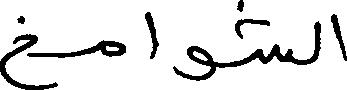X: (0, 11, 36, 89), (173, 41, 214, 85), (259, 15, 290, 68), (330, 9, 346, 65), (145, 7, 157, 63), (101, 35, 123, 61), (312, 16, 320, 67)
